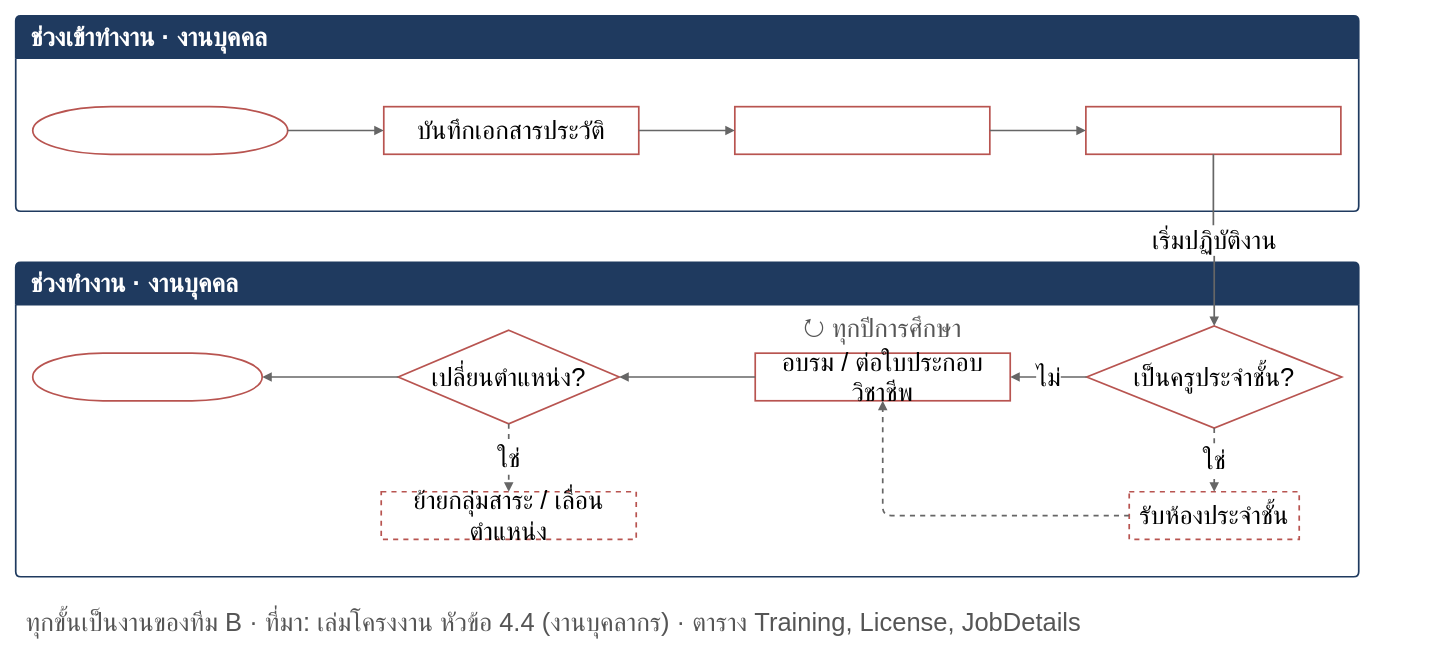
The diagram is 1432 pixels wide and 655 high, and some of its shapes have lost their labels. The shapes that lost their labels are listed below. From the top down, each one's centre as x and y in pixels, then its label:
At pixel 159 130: "บรรจุ / จ้าง / ย้ายเข้า".
At pixel 862 130: "กำหนดประเภทและตำแหน่ง".
At pixel 1213 130: "จัดเข้ากลุ่มสาระ / แผนก".
At pixel 147 376: "ลาออก / ย้ายออก / เกษียณ".
